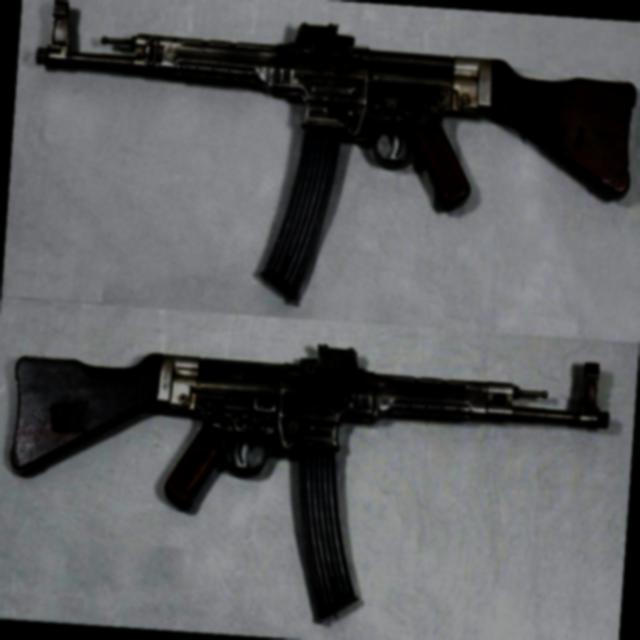ak: (0, 309, 616, 640), (18, 0, 640, 326)
